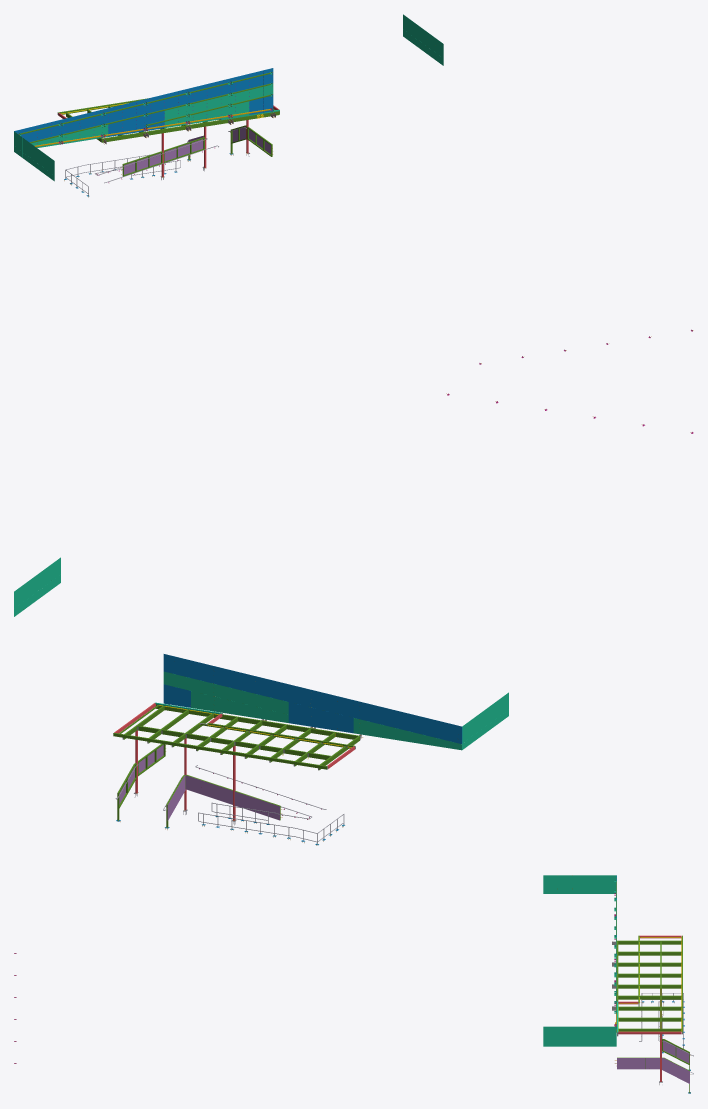
3 views of the same model, one above another, from view 1: azimuth 30°, elevation 25°; view 2: azimuth 150°, elevation 25°; view 3: azimuth 270°, elevation 25° (orthographic). The views are drawn at different scales.
Visible parts, largest first — view 1: Mesh 35225; view 2: Mesh 35225; view 3: no part large enough to name.
Part boxes in pixels (bbox=[...]): Mesh 35225: bbox=[139, 111, 279, 136]; Mesh 35225: bbox=[156, 704, 317, 733].
Bounding box in the file's own units: 33.59 × 11.46 × 56.32.
